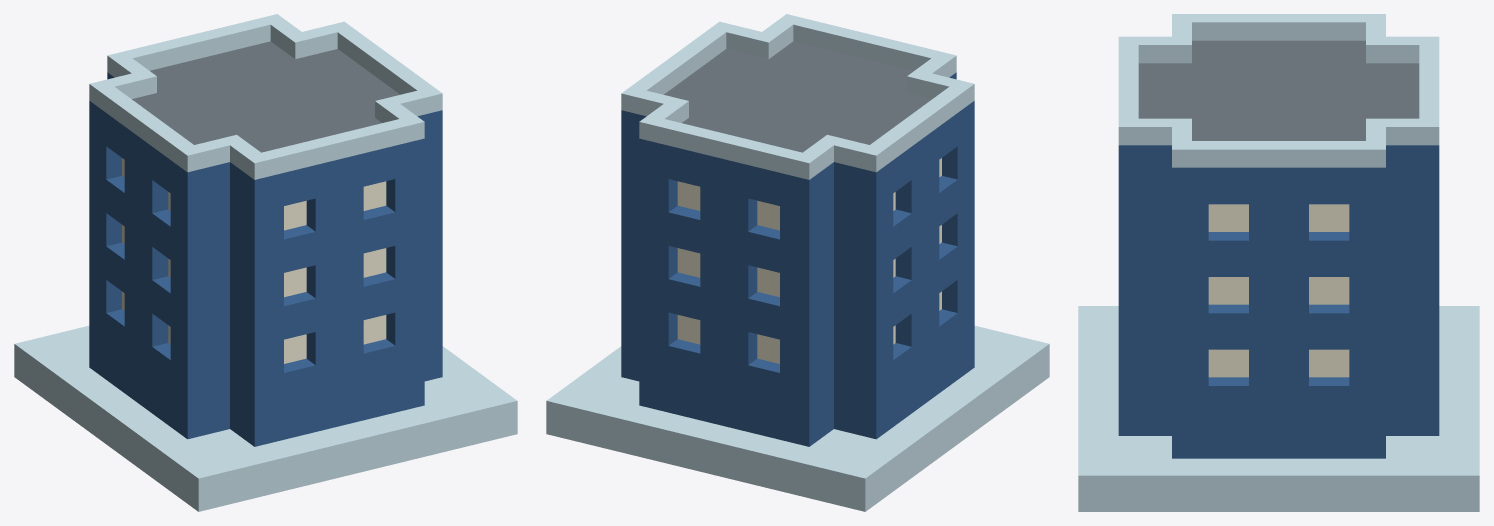
Rendered from Building_4_Base  (Blue).obj.
3 views of the same model, side by side, from view 1: azimuth 30°, elevation 25°; view 2: azimuth 150°, elevation 25°; view 3: azimuth 270°, elevation 25° (orthographic). The views are drawn at different scales.
Parts seen in each view (by area): view 1: Building_4_Base__(Blue); view 2: Building_4_Base__(Blue); view 3: Building_4_Base__(Blue).
Boxes of the visible parts, x1,y1,x2,y2 form: Building_4_Base__(Blue): (14, 14, 517, 511); Building_4_Base__(Blue): (546, 14, 1049, 511); Building_4_Base__(Blue): (1078, 14, 1479, 511).
Bounding box in the file's own units: 2 × 1.9 × 2.
